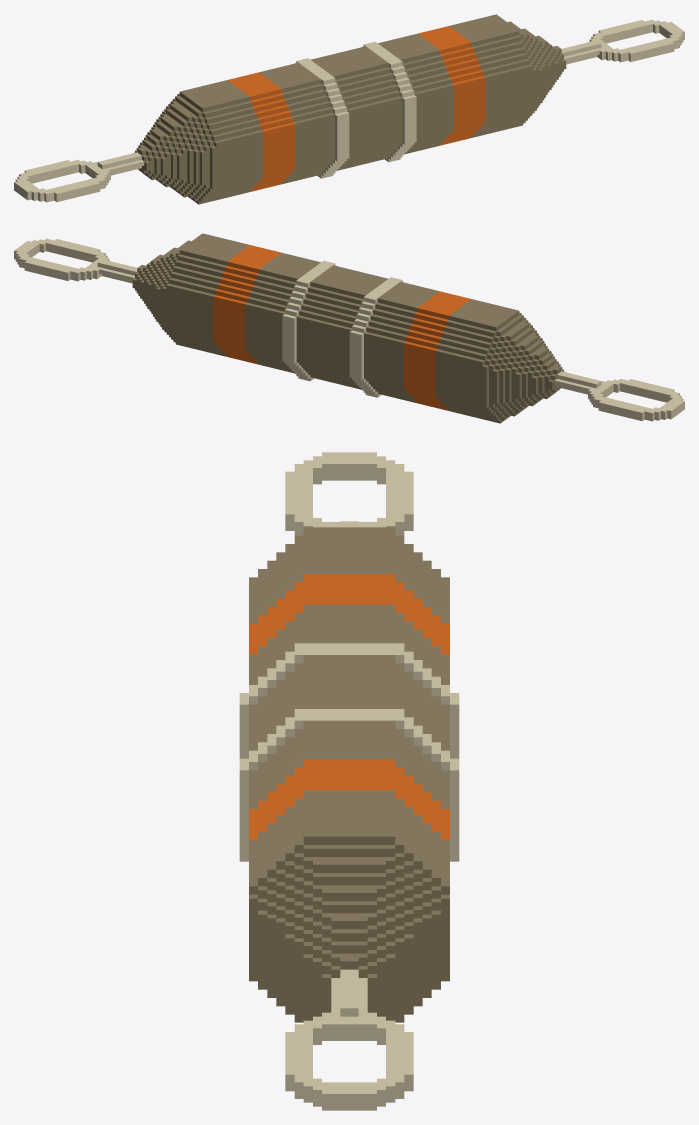
Rendered from hammock.glb.
3 renders of one model, top to bottom at view 1: azimuth 30°, elevation 25°; view 2: azimuth 150°, elevation 25°; view 3: azimuth 270°, elevation 25°, orthographic. The views are drawn at different scales.
Parts seen in each view (by area): view 1: hammock:compound; view 2: hammock:compound; view 3: hammock:compound.
Boxes of the visible parts, <box> form: hammock:compound: <box>14,14,684,204</box>; hammock:compound: <box>14,233,684,423</box>; hammock:compound: <box>239,452,459,1110</box>.
Bounding box in the file's own units: 0.664 × 0.096 × 0.096.
